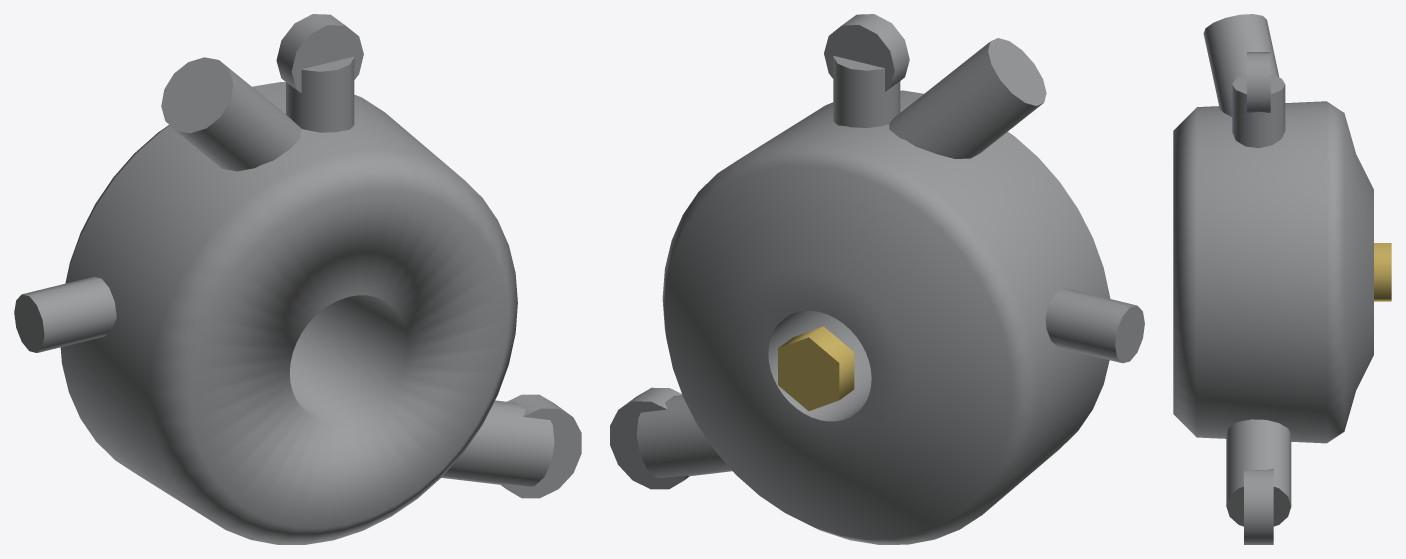
File: air-pump.glb
3 renders of one model, left to right at view 1: azimuth 30°, elevation 25°; view 2: azimuth 150°, elevation 25°; view 3: azimuth 270°, elevation 25°, orthographic. The views are drawn at different scales.
Visible parts, largest first — view 1: air-pump:castAlu; view 2: air-pump:castAlu, air-pump:yellowZinc; view 3: air-pump:castAlu, air-pump:yellowZinc.
Boxes of the visible parts, x1,y1,x2,y2 form: air-pump:castAlu: [14, 14, 581, 544]; air-pump:castAlu: [610, 14, 1144, 544]; air-pump:yellowZinc: [778, 326, 854, 410]; air-pump:castAlu: [1173, 14, 1373, 544]; air-pump:yellowZinc: [1374, 243, 1391, 301].
Bounding box in the file's own units: 162 × 152 × 74.
